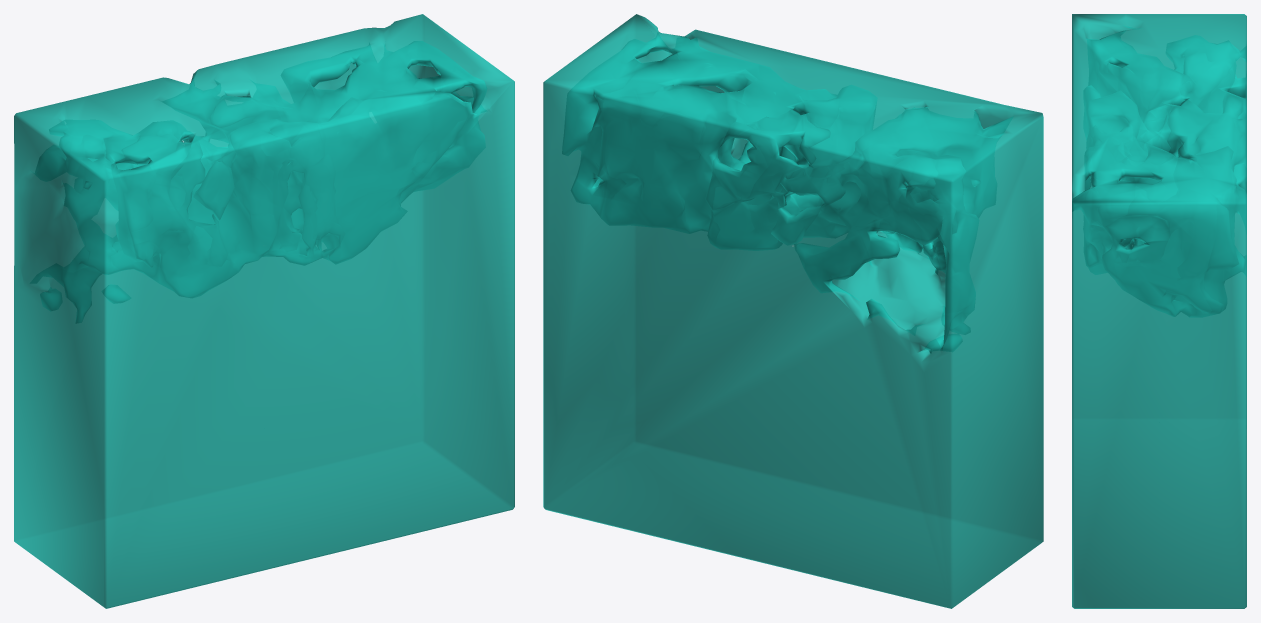
3 renders of one model, left to right at view 1: azimuth 30°, elevation 25°; view 2: azimuth 150°, elevation 25°; view 3: azimuth 270°, elevation 25°, orthographic. The views are drawn at different scales.
Parts seen in each view (by area): view 1: Liquid_Domain; view 2: Liquid_Domain; view 3: Liquid_Domain.
Part boxes in pixels (<box>): Liquid_Domain: <box>14,14,514,608</box>; Liquid_Domain: <box>543,14,1043,608</box>; Liquid_Domain: <box>1072,14,1246,608</box>.
Size of the model in its own units: 884 by 884 by 344.
